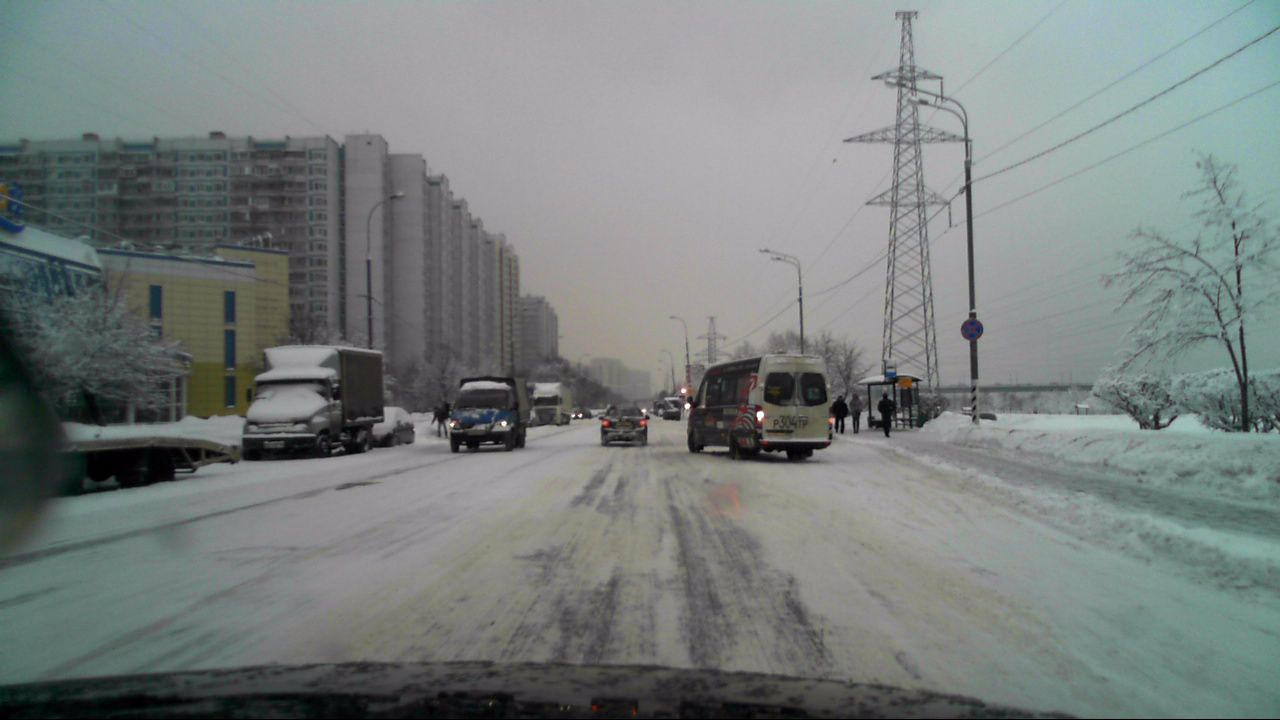No Parking: (959, 317, 985, 341)
